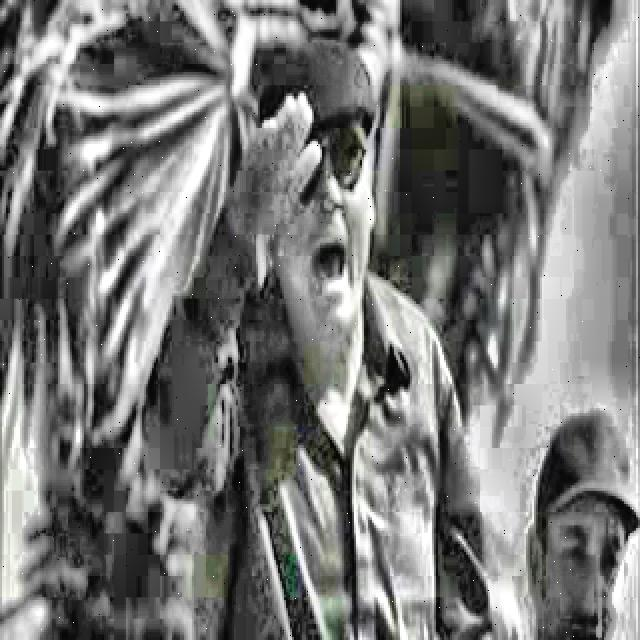T: (152, 37, 521, 638)
